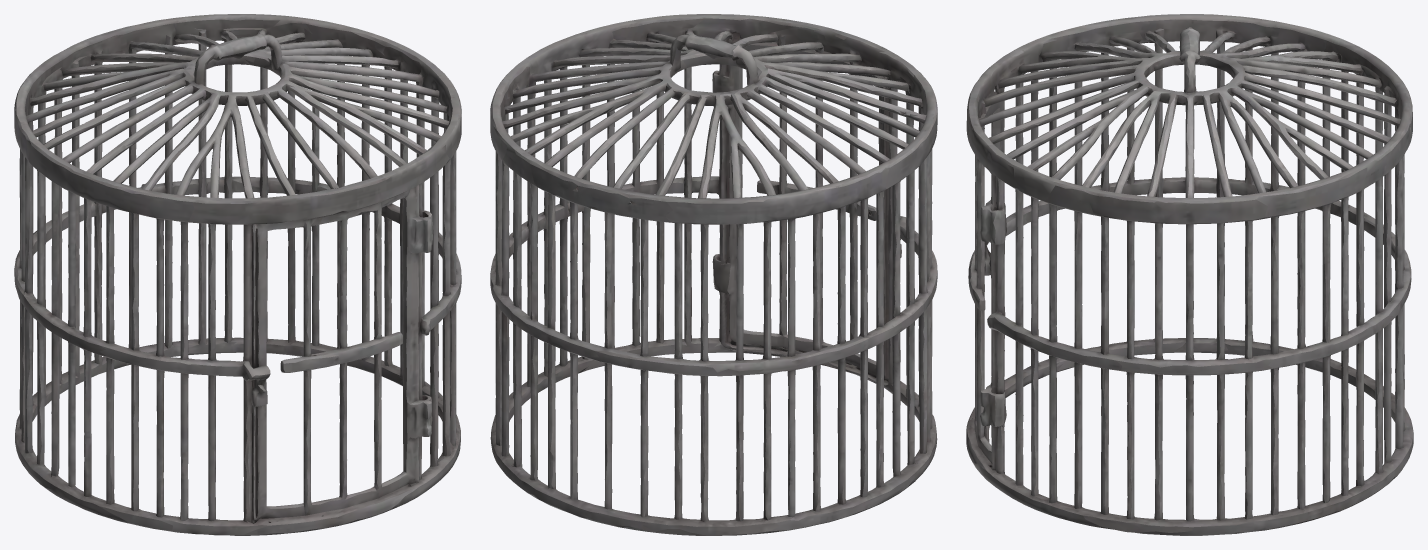
3 renders of one model, left to right at view 1: azimuth 30°, elevation 25°; view 2: azimuth 150°, elevation 25°; view 3: azimuth 270°, elevation 25°, orthographic.
Parts seen in each view (by area): view 1: geometry_0; view 2: geometry_0; view 3: geometry_0.
Part boxes in pixels (x1=…): geometry_0: x1=14, y1=14, x2=461, y2=535; geometry_0: x1=490, y1=14, x2=937, y2=535; geometry_0: x1=966, y1=14, x2=1413, y2=535.
Bounding box in the file's own units: 0.3512 × 0.35 × 0.3521.
Materials: 1 (1 with a texture image).
